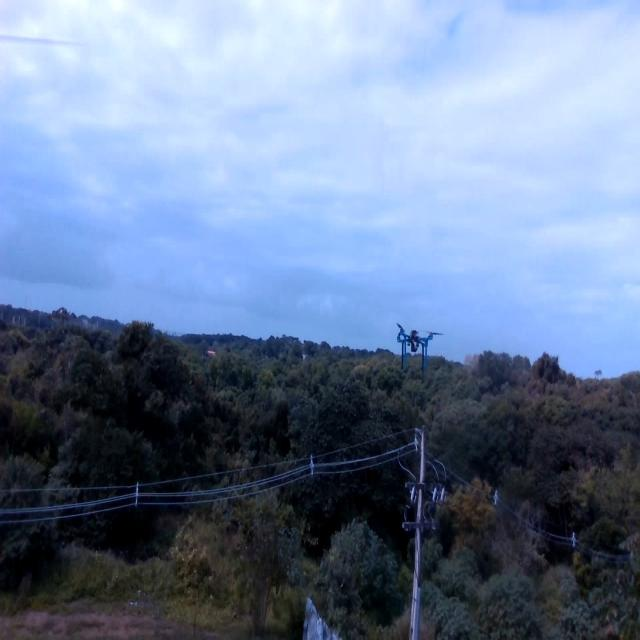-uav-: (394, 311, 444, 387)
